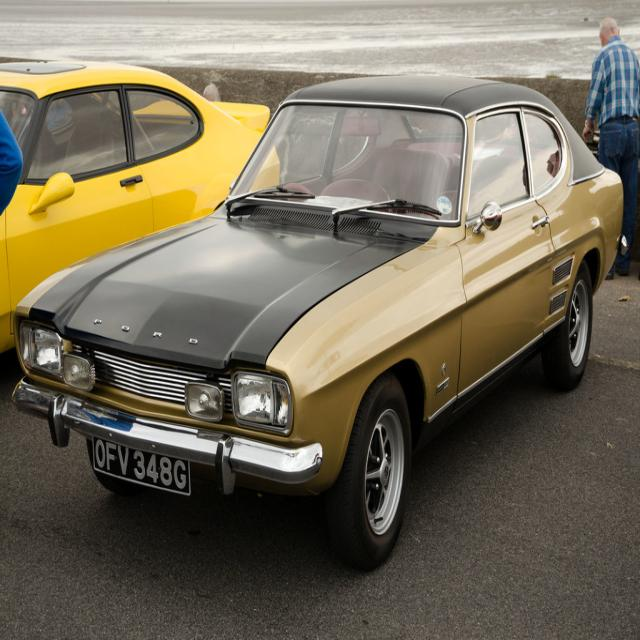car: (11, 72, 630, 570)
